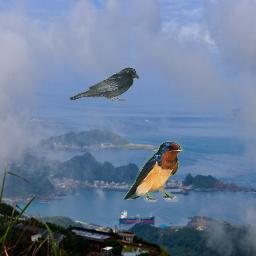Crow: (69, 67, 139, 101)
Swallow: (122, 141, 183, 202)
